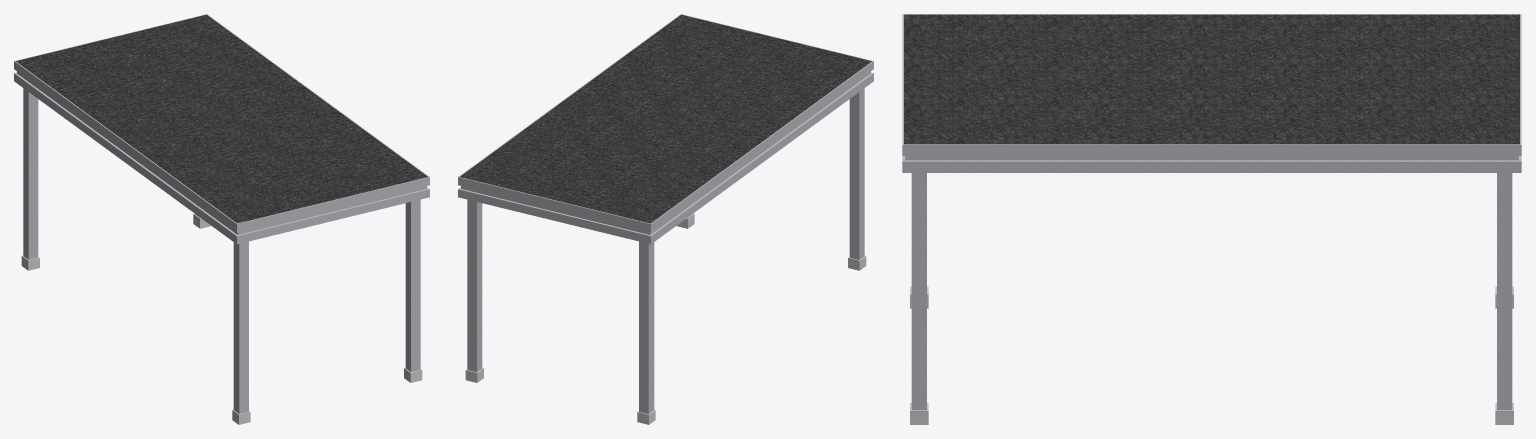
Rendered from stage_praticavel_2x1x1.glb.
The picture shows the model from 3 angles, left to right: view 1: azimuth 30°, elevation 25°; view 2: azimuth 150°, elevation 25°; view 3: azimuth 270°, elevation 25°; orthographic projection. The views are drawn at different scales.
Size of the model in its own units: 1 by 1.01 by 2.
Materials: 4 (2 with a texture image).
